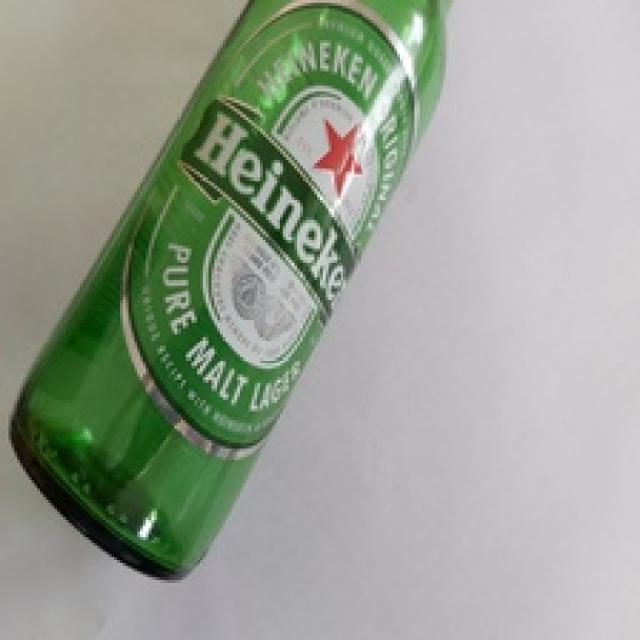garbage: (8, 0, 460, 566)
